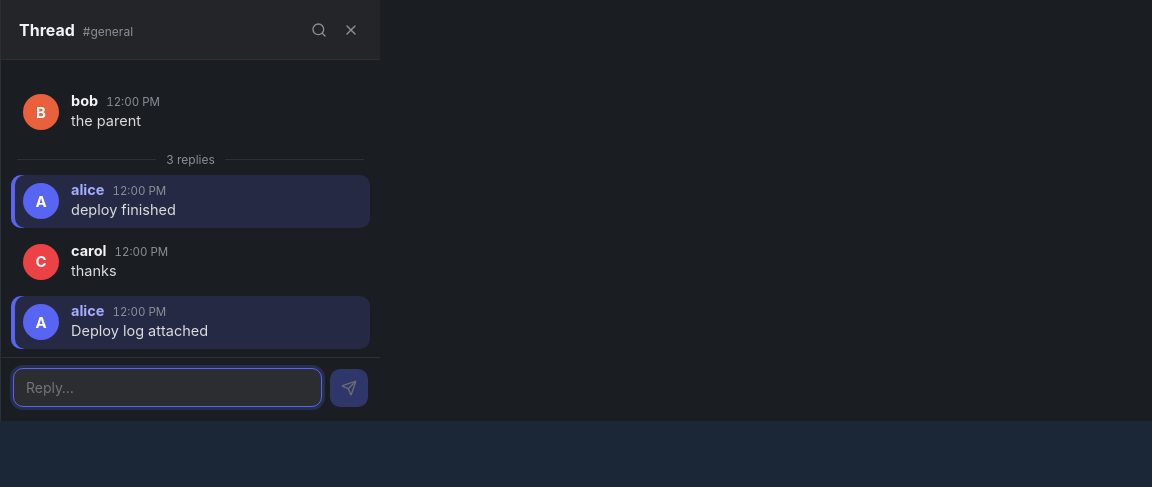
Scenario: search in a thread › says so when nothing matches
Click the button named "Search in thread": (319, 30) [304,14,334,44]
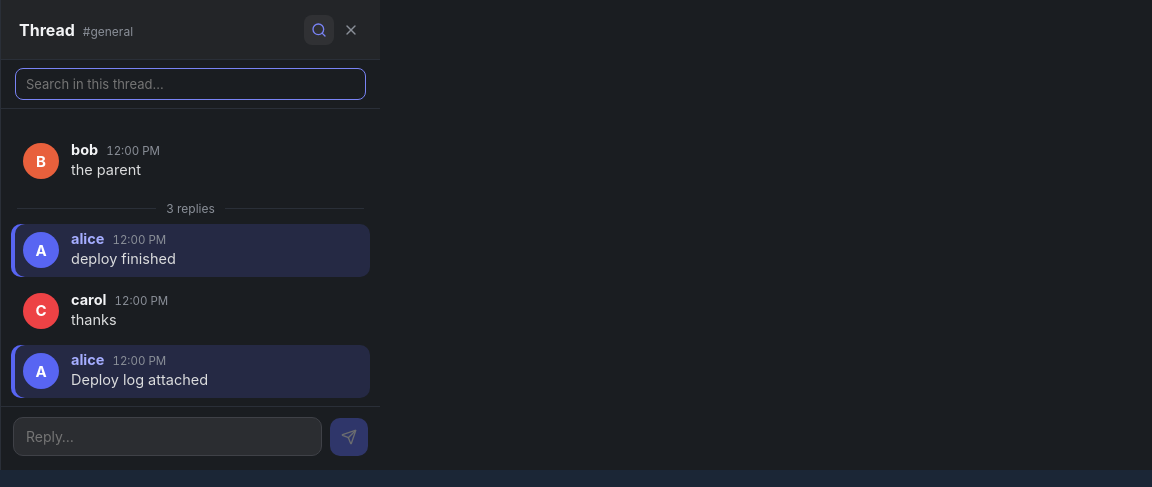
In the search field with placeholder "Search in this thread…": (190, 84) [15,68,366,100], type "zzz"
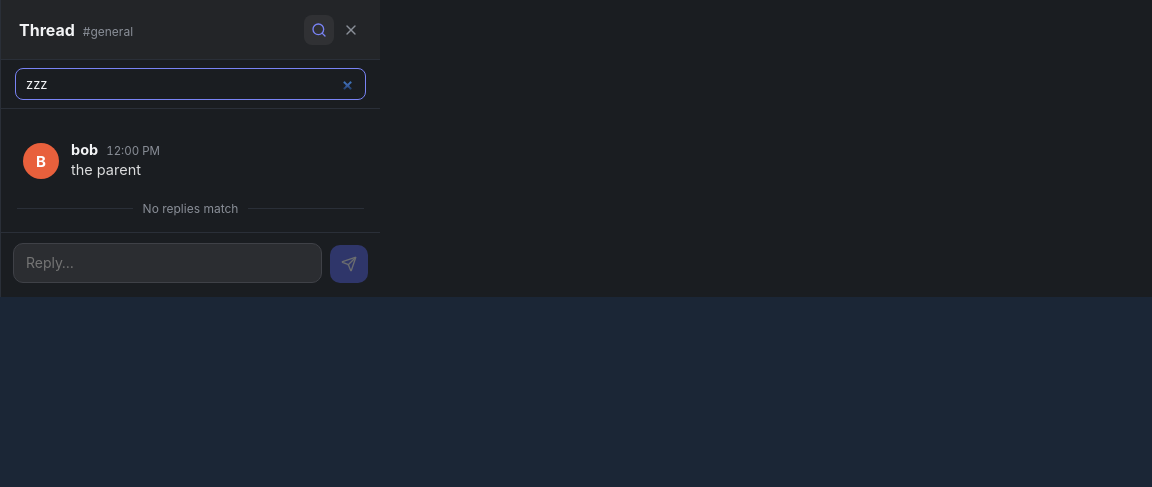
Now the text "No replies match" is shown, box [143,202,238,216]
